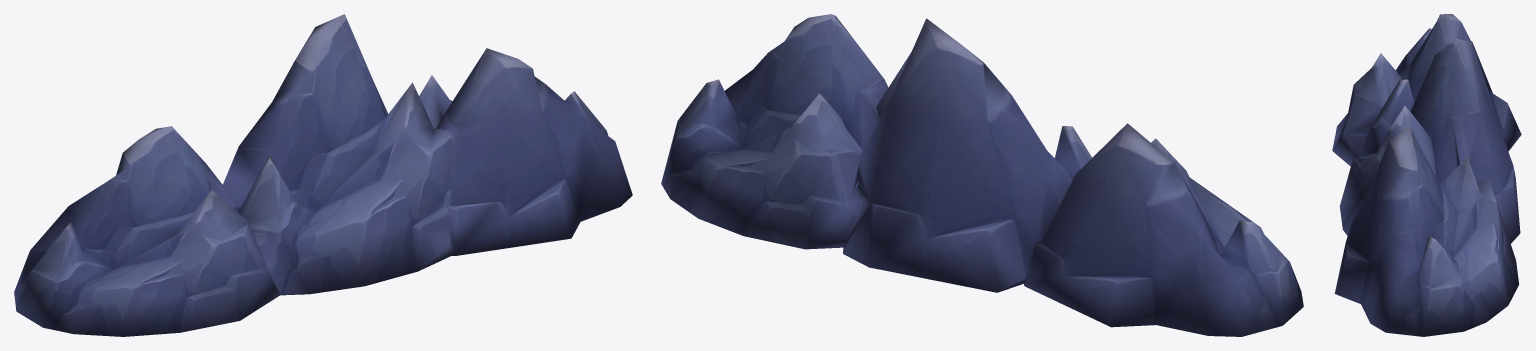
Rendered from Amethyst_Range_3x1.fbx.
3 views of the same model, side by side, from view 1: azimuth 30°, elevation 25°; view 2: azimuth 150°, elevation 25°; view 3: azimuth 270°, elevation 25° (orthographic). The views are drawn at different scales.
Visible parts, largest first — view 1: Amethyst_Range_3x1; view 2: Amethyst_Range_3x1; view 3: Amethyst_Range_3x1.
Part boxes in pixels (bbox=[...]): Amethyst_Range_3x1: bbox=[14, 14, 632, 336]; Amethyst_Range_3x1: bbox=[661, 14, 1303, 336]; Amethyst_Range_3x1: bbox=[1332, 14, 1521, 336].
Size of the model in its own units: 2.92 by 1.01 by 0.92.
Materials: 1 (1 with a texture image).
